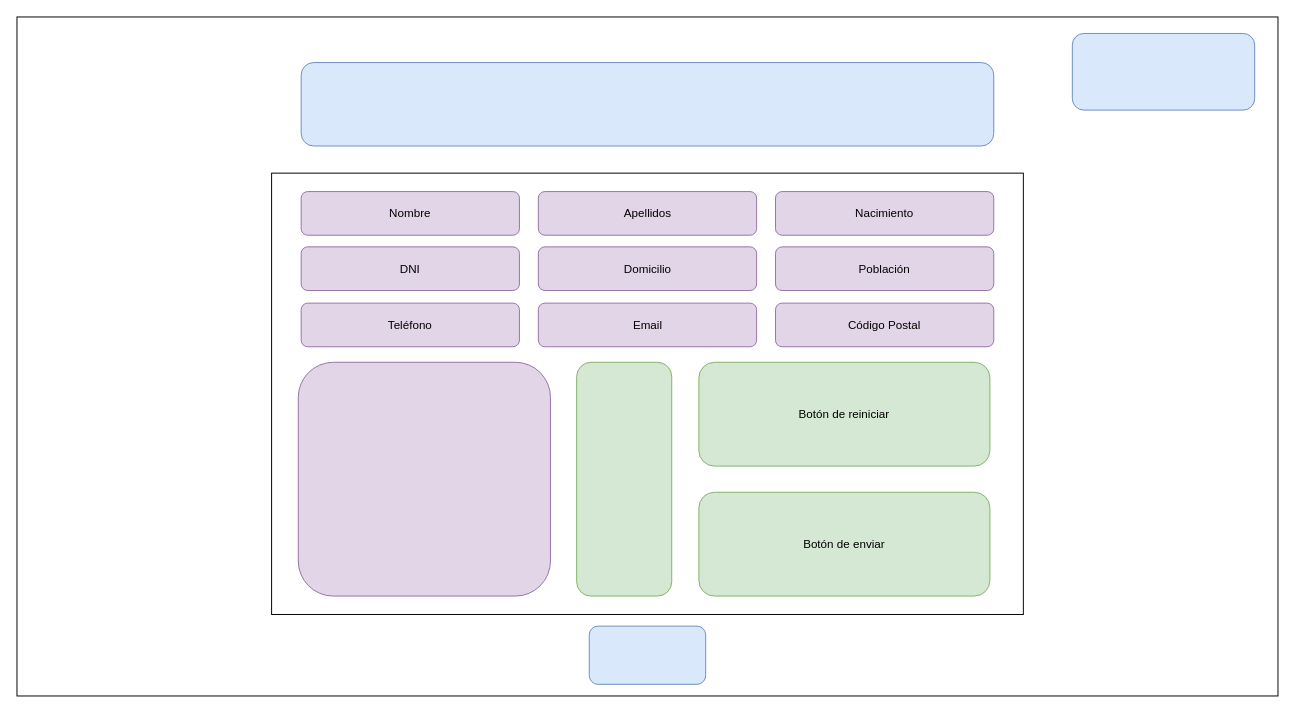
Image size: 1295x713. Some labels were removed from this diagram. The shapes that lost their labels are listed below. From the top down, each one's centre as x and y in pixels, then its label:
the point at 1163,71: LOGO
the point at 647,104: FORMULARIO DE CONTACTO
the point at 423,478: Razón por la que se pone en contacto
the point at 624,478: Botón de volver
the point at 647,654: REDES SOCIALES
